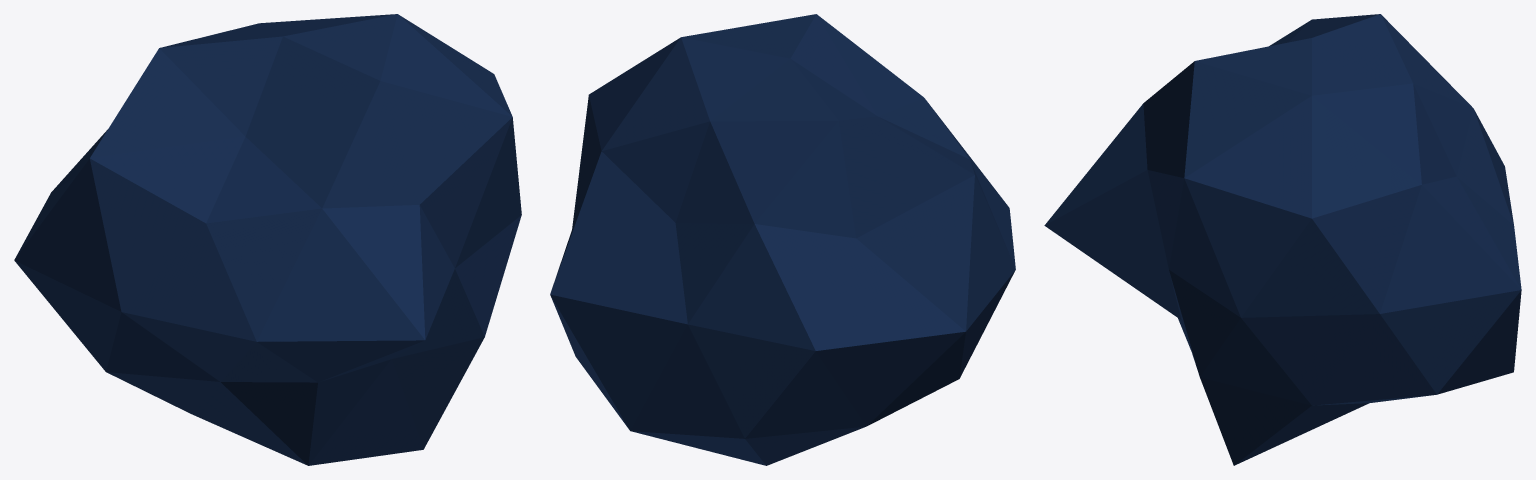
File: Asteroid-transformed.glb
3 views of the same model, side by side, from view 1: azimuth 30°, elevation 25°; view 2: azimuth 150°, elevation 25°; view 3: azimuth 270°, elevation 25° (orthographic). The views are drawn at different scales.
Visible parts, largest first — view 1: Asteroid; view 2: Asteroid; view 3: Asteroid.
Part boxes in pixels (bbox=[...]): Asteroid: bbox=[14, 14, 521, 465]; Asteroid: bbox=[550, 14, 1015, 465]; Asteroid: bbox=[1044, 14, 1521, 465].
Size of the model in its own units: 0.8838 by 0.7867 by 0.888.
